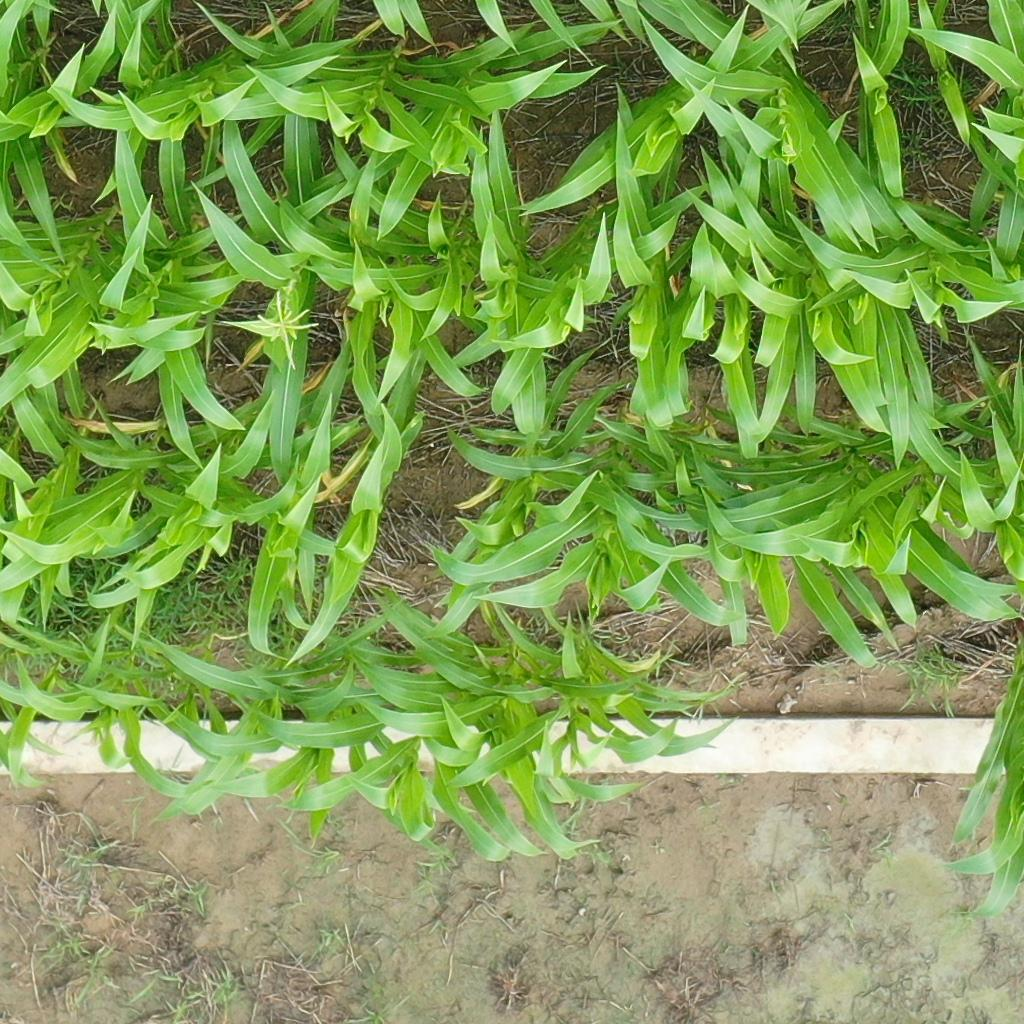Tassel: (255, 288, 317, 366), (781, 136, 797, 170)
